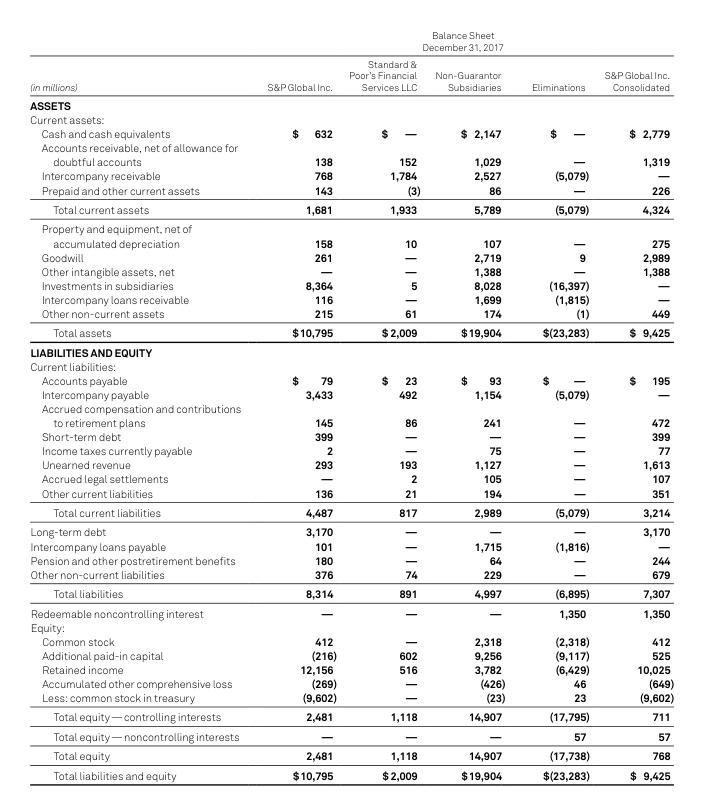table: (29, 29, 673, 781)
table column: (29, 29, 253, 781), (427, 29, 517, 781), (253, 29, 342, 781), (342, 29, 427, 781), (517, 29, 596, 781), (596, 29, 673, 781)
table column header: (29, 29, 673, 95)
table projected row header: (29, 95, 673, 112), (29, 342, 673, 359), (29, 112, 673, 126), (29, 359, 673, 373), (29, 619, 673, 633)
table row: (29, 54, 673, 95), (29, 218, 673, 249), (29, 140, 673, 168), (29, 401, 673, 429), (29, 29, 673, 54), (29, 322, 673, 342), (29, 706, 673, 726), (29, 745, 673, 765), (29, 199, 673, 218), (29, 502, 673, 521), (29, 583, 673, 602), (29, 726, 673, 745), (29, 95, 673, 112), (29, 182, 673, 199), (29, 305, 673, 322), (29, 342, 673, 359), (29, 485, 673, 502), (29, 521, 673, 538), (29, 566, 673, 583), (29, 602, 673, 619), (29, 689, 673, 706), (29, 765, 673, 781), (29, 112, 673, 126), (29, 126, 673, 140), (29, 168, 673, 182), (29, 249, 673, 263), (29, 263, 673, 277), (29, 277, 673, 291), (29, 291, 673, 305), (29, 359, 673, 373), (29, 373, 673, 387), (29, 387, 673, 401), (29, 429, 673, 443), (29, 443, 673, 457), (29, 457, 673, 471), (29, 471, 673, 485), (29, 538, 673, 552), (29, 552, 673, 566), (29, 619, 673, 633), (29, 633, 673, 647), (29, 647, 673, 661), (29, 661, 673, 675), (29, 675, 673, 689)
table spanning cell: (29, 29, 253, 95), (253, 29, 673, 54)
